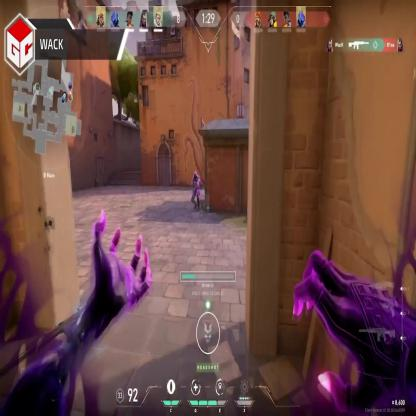enemy: (191, 170, 202, 209)
enemy_head: (193, 171, 198, 179)
